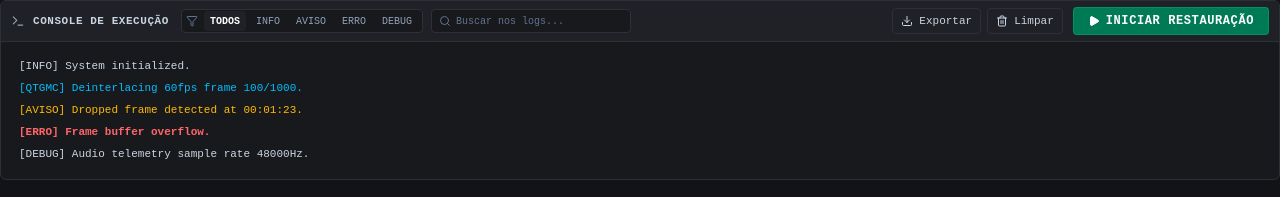
Test: ConsoleViewer Component with Live Search › clears search input when clicking clear button
The width and height of the screenshot is (1280, 197).
Type "overflow" into the field with placeholder "Buscar nos logs..." at (531, 21), box [431,9,631,33]
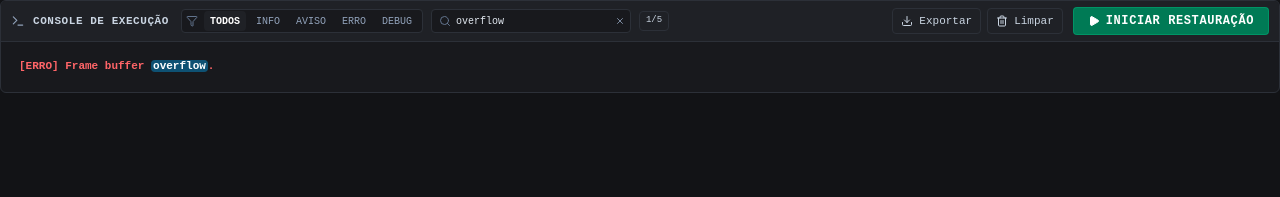
Click the button titled "Limpar busca" at (620, 21), box [613,14,627,28]
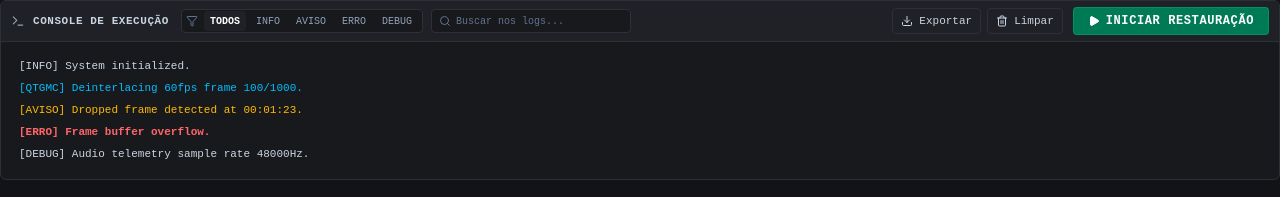
Expected: the text "[INFO] System initialized." is shown, [19,60,191,72]
